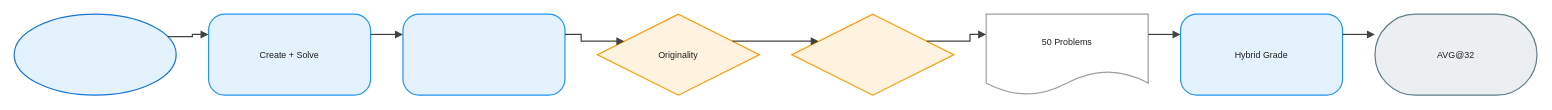
Image size: 1552x110. Some labels were removed from this diagram. Each missing label, with the box of its shape:
3+ Review: (402, 13, 565, 95)
Hardness Gate: (791, 13, 954, 95)
Math Experts: (13, 13, 176, 95)
